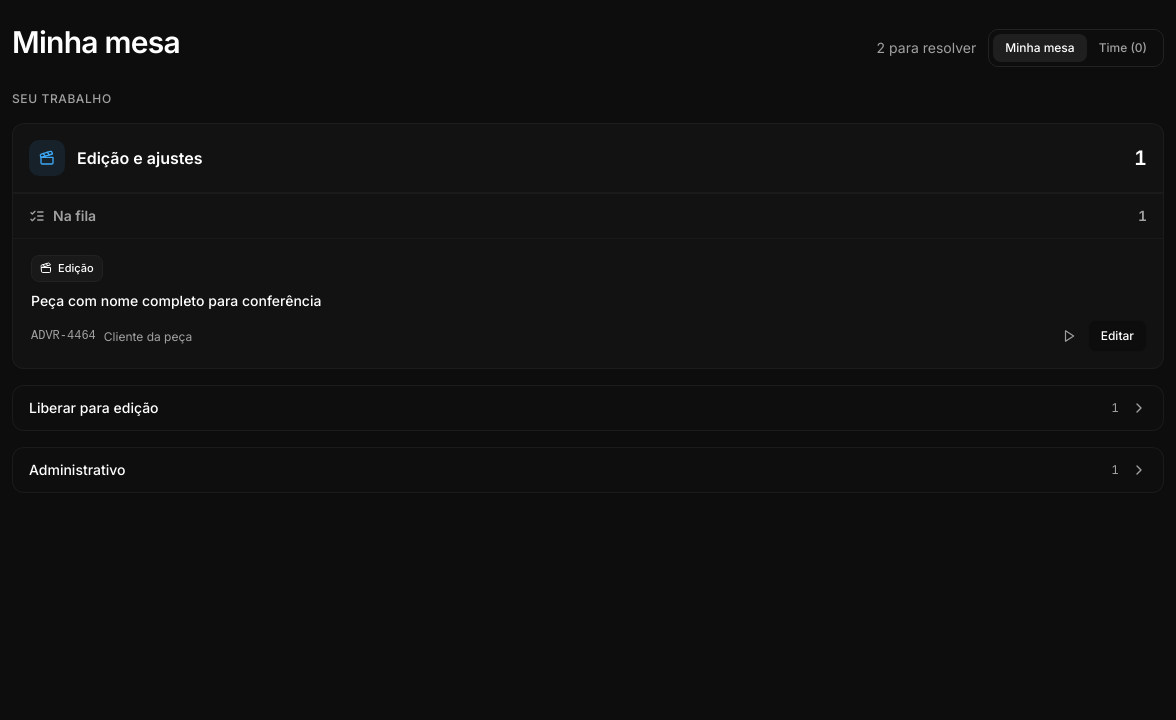
Scenario: Minha mesa › recolhe administrativo e liberação, mantendo o trabalho de edição visível
Expected: the link "Peça com nome completo para conferência" is shown, 31,292 -> 321,308
Expected: the text "News do mês" is not shown
Click the button "Administrativo 1" at [77, 470], box 13,448 -> 1163,492
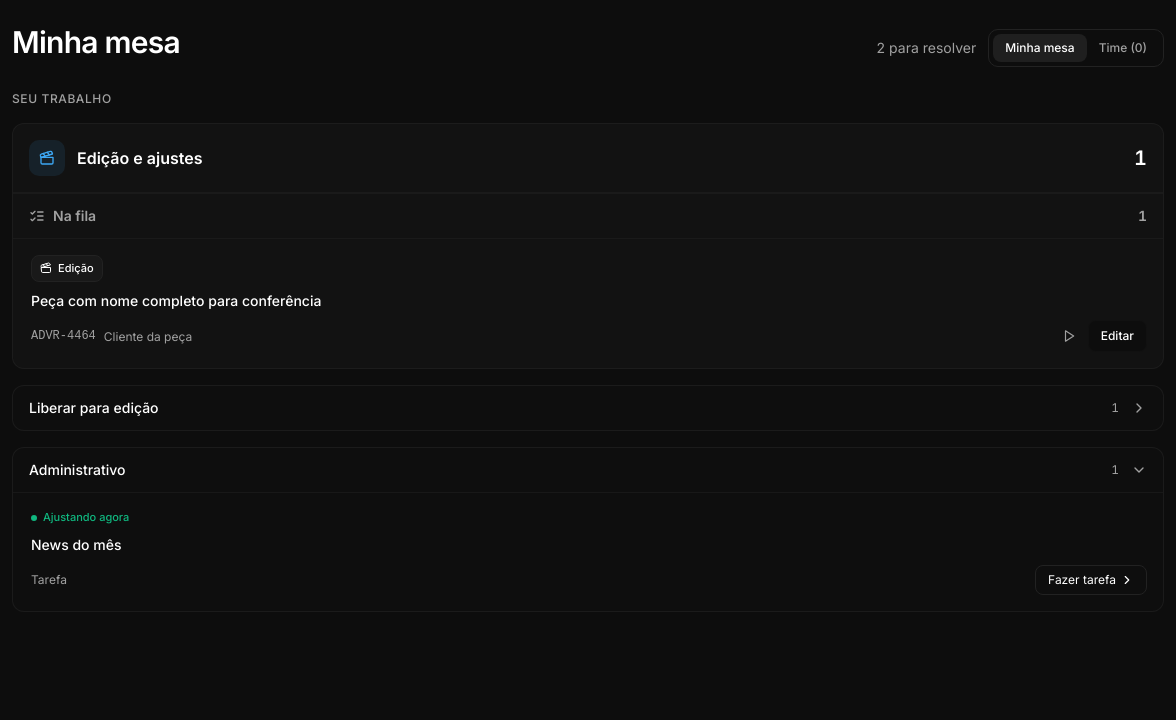
Expected: the link "News do mês" is shown, 31,536 -> 122,553
